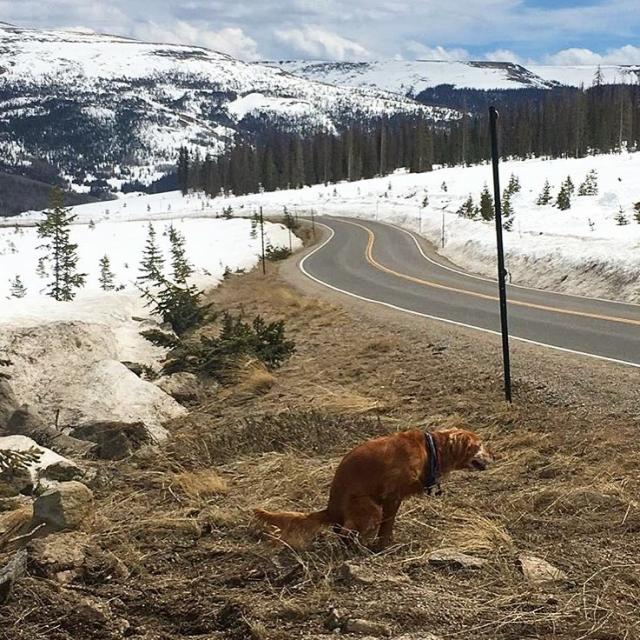squatting: (251, 418, 501, 562)
